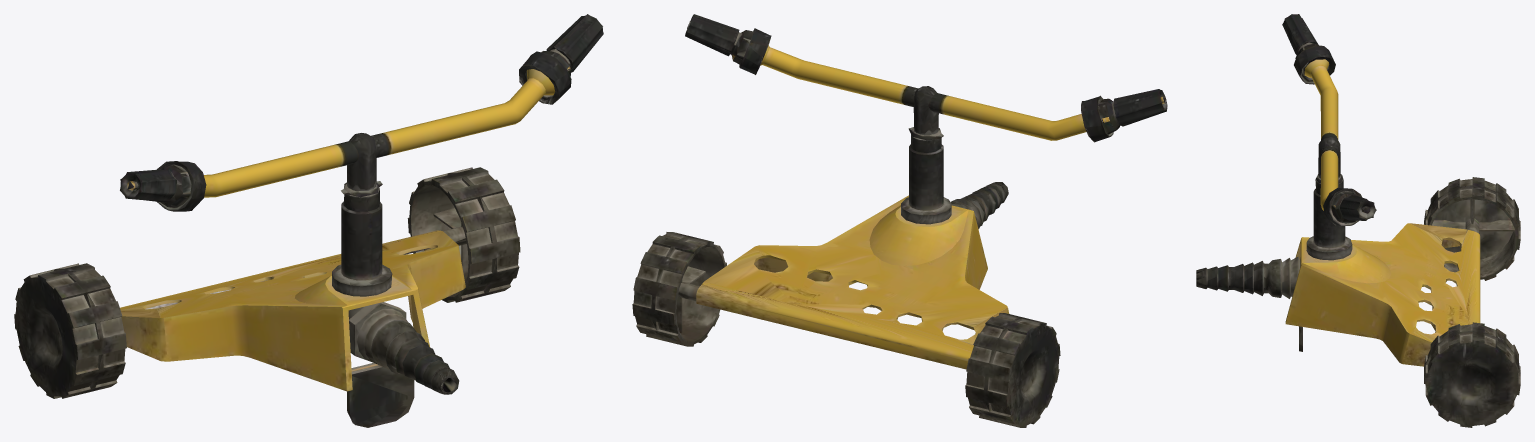
Rendered from garden-sprinkler-01.glb.
3 views of the same model, side by side, from view 1: azimuth 30°, elevation 25°; view 2: azimuth 150°, elevation 25°; view 3: azimuth 270°, elevation 25° (orthographic). The views are drawn at different scales.
Visible parts, largest first — view 1: garden_sprinkler_01; view 2: garden_sprinkler_01; view 3: garden_sprinkler_01.
Part boxes in pixels (bbox=[...]): garden_sprinkler_01: bbox=[14, 14, 603, 427]; garden_sprinkler_01: bbox=[632, 14, 1167, 427]; garden_sprinkler_01: bbox=[1196, 14, 1520, 427].
Bounding box in the file's own units: 0.3508 × 0.203 × 0.249.
Materials: 1 (1 with a texture image).
